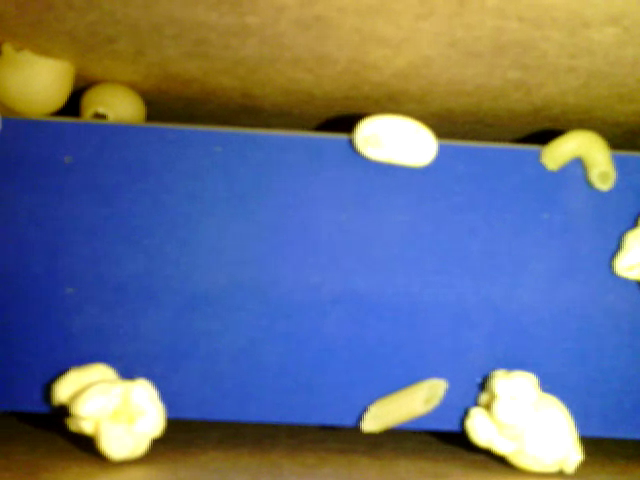elbow: (539, 129, 616, 192)
penne: (361, 378, 447, 431)
shell: (1, 42, 74, 117), (81, 83, 146, 123)
